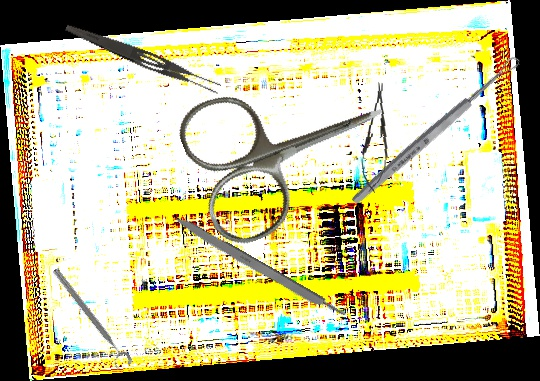Dressing Forceps: (62, 21, 223, 97)
Fixation Ring: (44, 265, 135, 374)
Iris Scissors: (171, 43, 409, 253)
Needle Holder: (358, 80, 395, 194)
Scalpel Handle: (169, 212, 348, 323)
Surgical Spoon: (348, 53, 524, 208)
